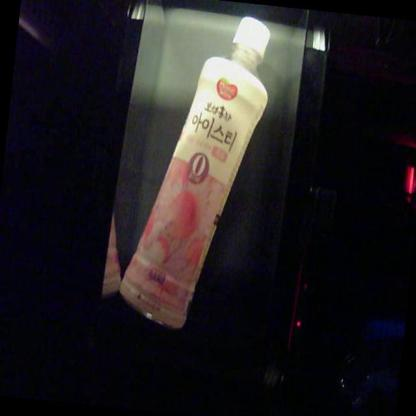Plastic Bottle: (118, 17, 270, 329)
